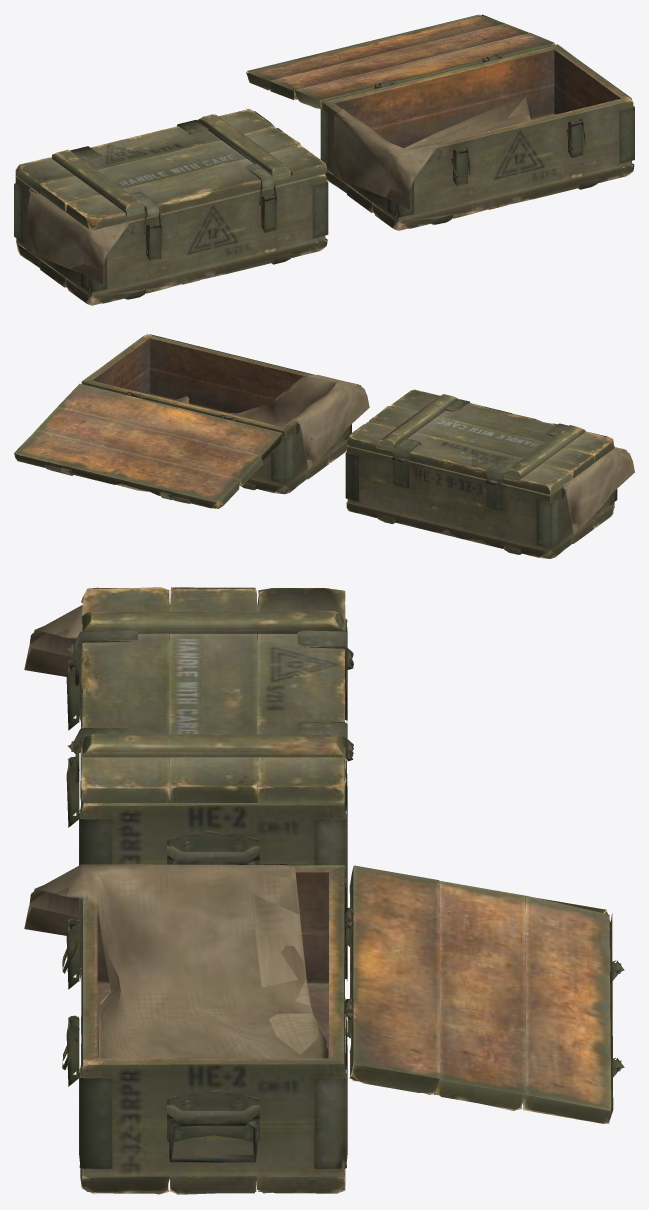
The model's file is ammo_crates.glb.
The picture shows the model from 3 angles, top to bottom: view 1: azimuth 30°, elevation 25°; view 2: azimuth 150°, elevation 25°; view 3: azimuth 270°, elevation 25°; orthographic projection. The views are drawn at different scales.
Parts seen in each view (by area): view 1: old_military_crate; view 2: old_military_crate; view 3: old_military_crate.
Boxes of the visible parts, bbox=[...] form: old_military_crate: bbox=[14, 14, 634, 305]; old_military_crate: bbox=[14, 334, 634, 558]; old_military_crate: bbox=[24, 587, 624, 1194].
Size of the model in its own units: 1.81 by 0.3005 by 0.9802.
1 material, 1 textured.
